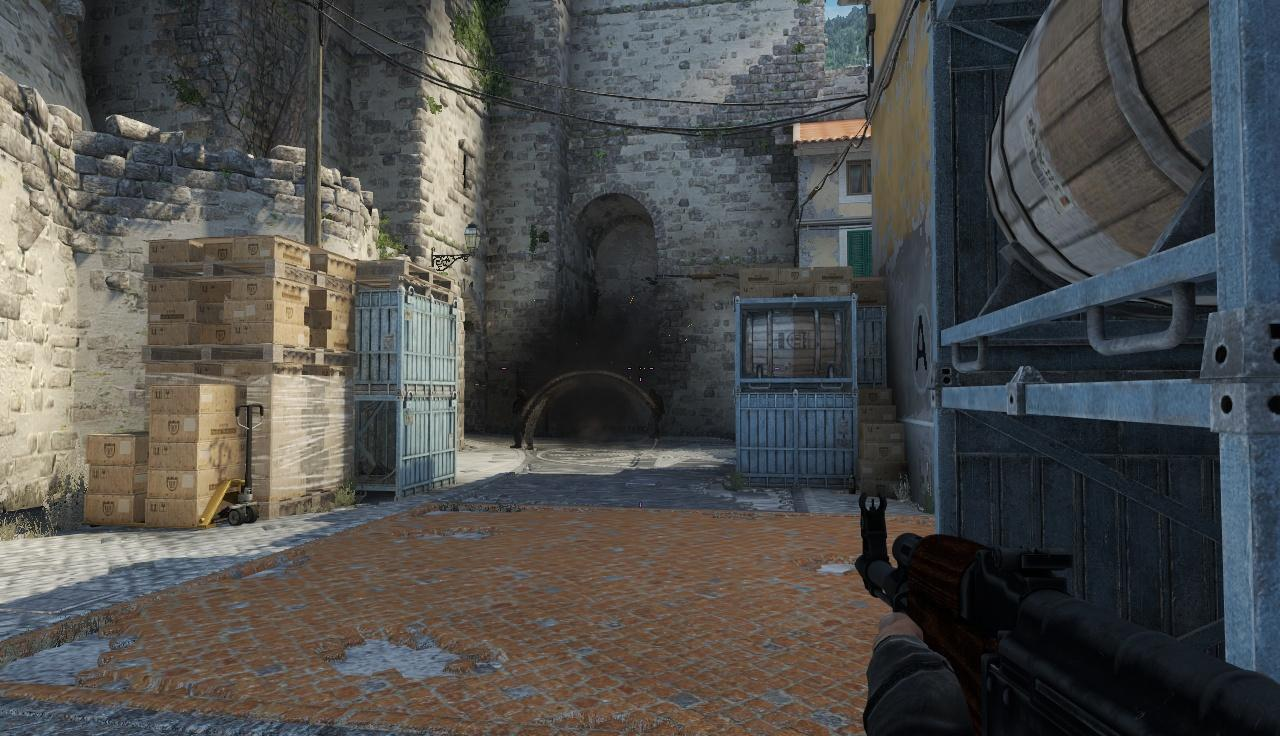ct: (512, 390, 532, 448), (647, 389, 661, 438)
cthead: (517, 390, 527, 398), (649, 389, 656, 397)
rifle: (863, 498, 1280, 736)
